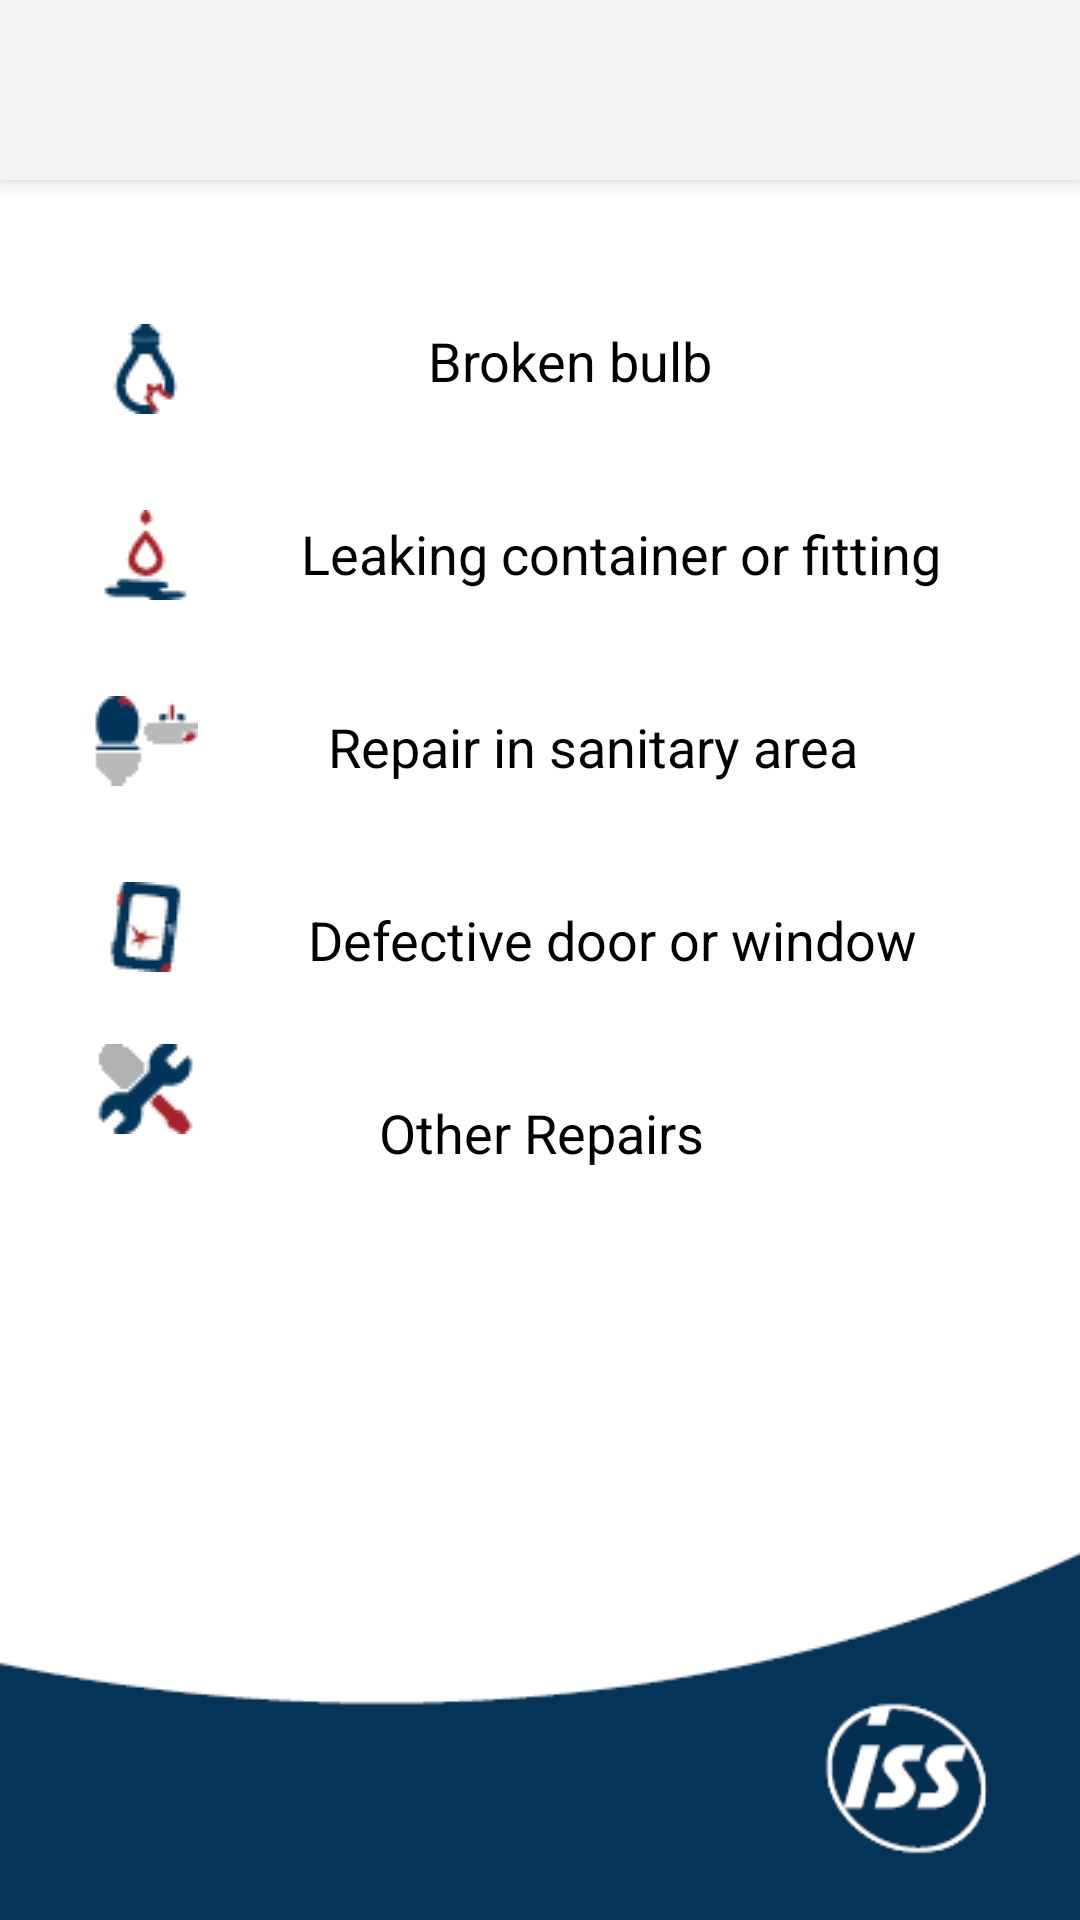

Named icons in this screenshot (1080 × 1920) and their bounding boxes, (x1, y1, x2, y2):
repk behaelter: (104, 510, 187, 600)
repk lampe: (114, 324, 177, 414)
repk sanitaer grau: (95, 696, 198, 786)
repk sonstige grau: (98, 1044, 193, 1134)
repk tuerfenster: (110, 882, 181, 972)
